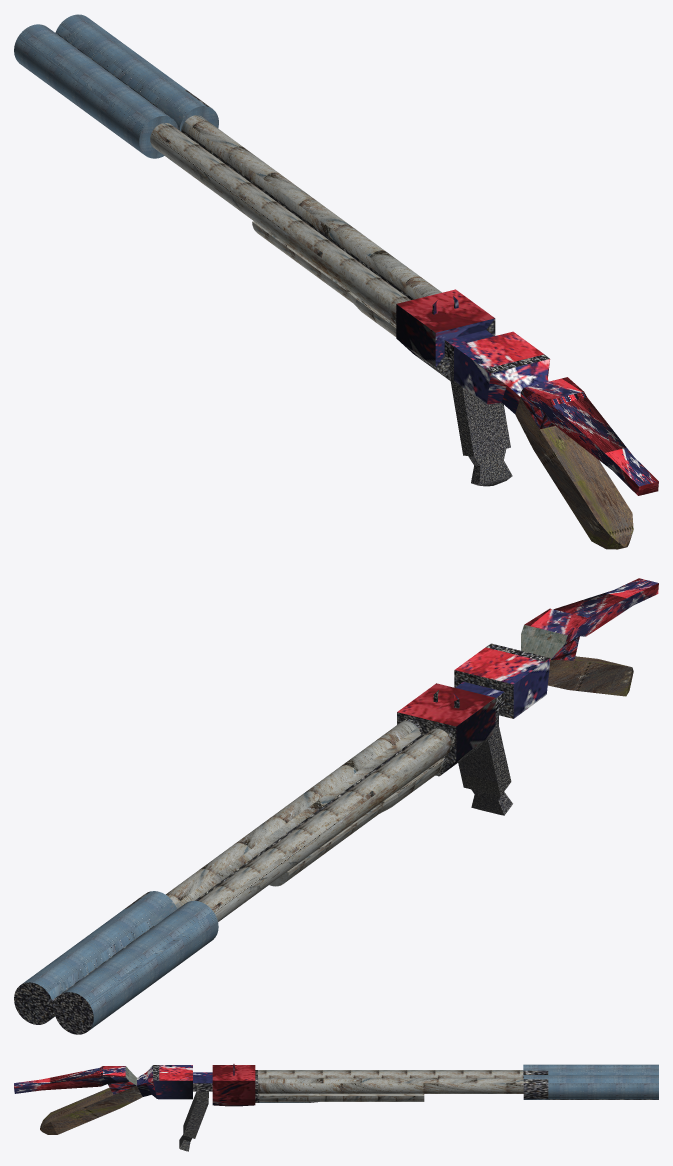
Rendered from shotgun.fbx.
3 views of the same model, one above another, from view 1: azimuth 30°, elevation 25°; view 2: azimuth 150°, elevation 25°; view 3: azimuth 270°, elevation 25° (orthographic). The views are drawn at different scales.
Visible parts, largest first — view 1: Cube.001; view 2: Cube.001; view 3: Cube.001.
Part boxes in pixels (x1,y1,x2,y2): Cube.001: (14,14,658,549); Cube.001: (14,578,658,1034); Cube.001: (14,1064,658,1151).
Size of the model in its own units: 242 by 446 by 3125.
